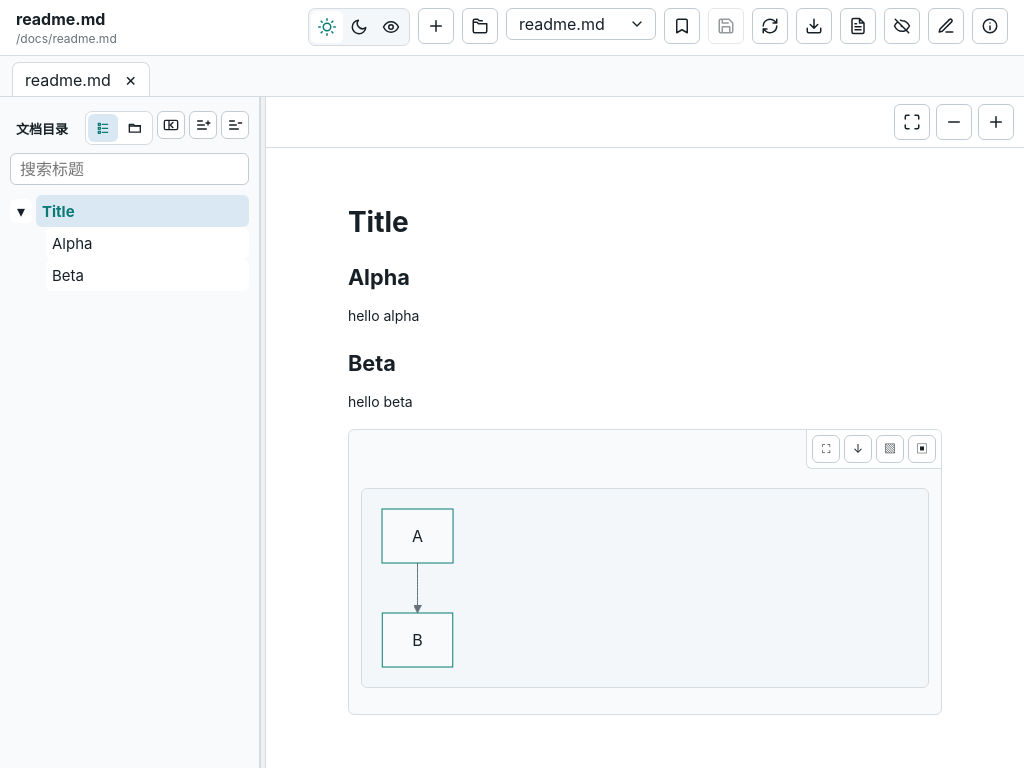
Test case: App › shows up to 50 recent files and filters them by name or path
Click the button with test id "recent-files" at (581,24), box [506,8,656,40]
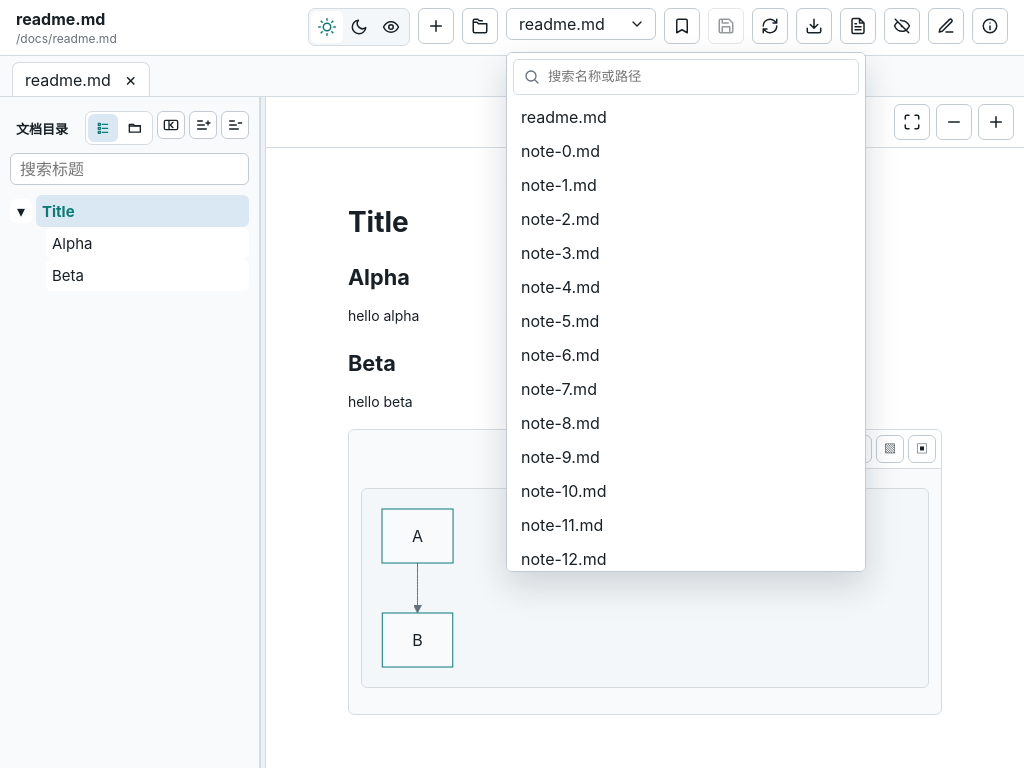
Type "folder-4" into the search field with test id "recent-files-search" at (700,76), box [548,69,852,84]
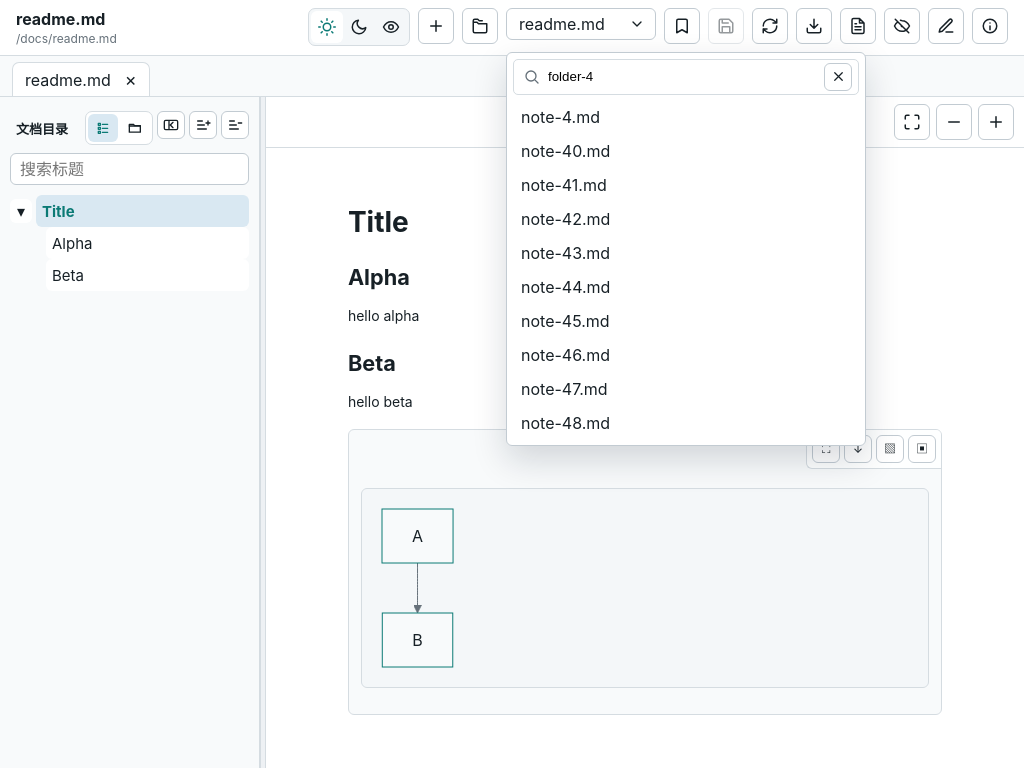
Expected: the number of elements with class "recent-file-row" is 10
